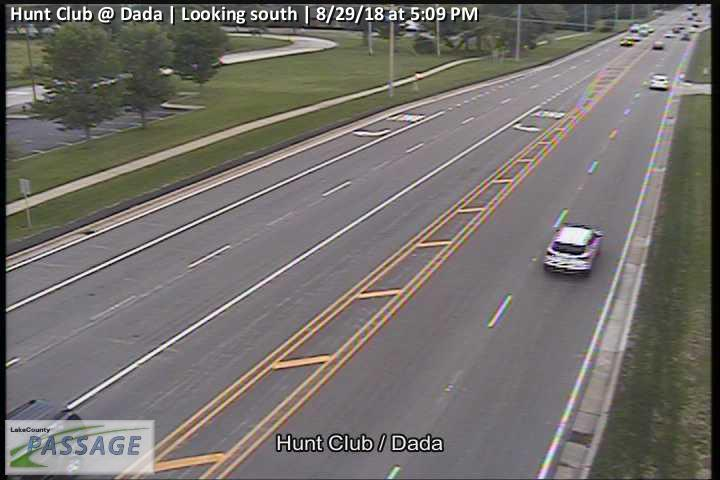SUV: (3, 398, 88, 478), (543, 223, 602, 277), (650, 74, 669, 89)
Sedan: (620, 36, 634, 45), (652, 40, 665, 49)
